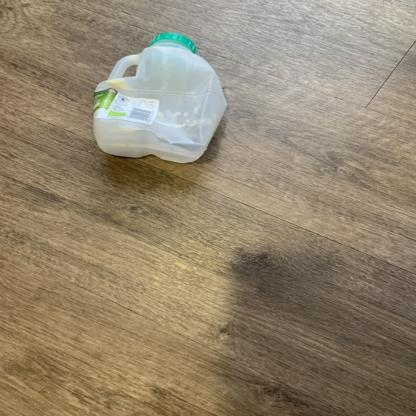trash: (90, 30, 228, 167)
